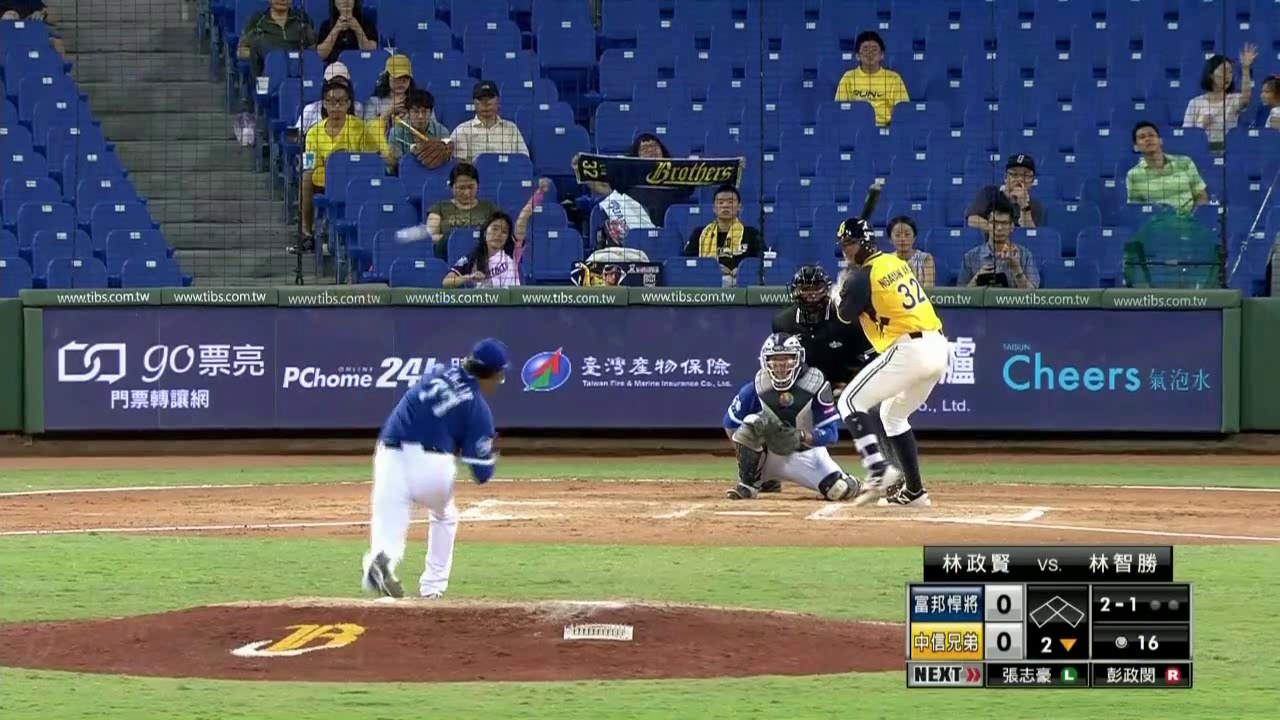ball: (400, 220, 423, 243)
base: (1027, 593, 1086, 628)
bat: (836, 181, 883, 282)
out: (1145, 591, 1184, 615)
score1: (987, 587, 1020, 619)
score2: (986, 627, 1019, 658)
session: (1026, 632, 1089, 660)
strikeball: (1093, 592, 1143, 618)
total: (1093, 629, 1187, 655)
